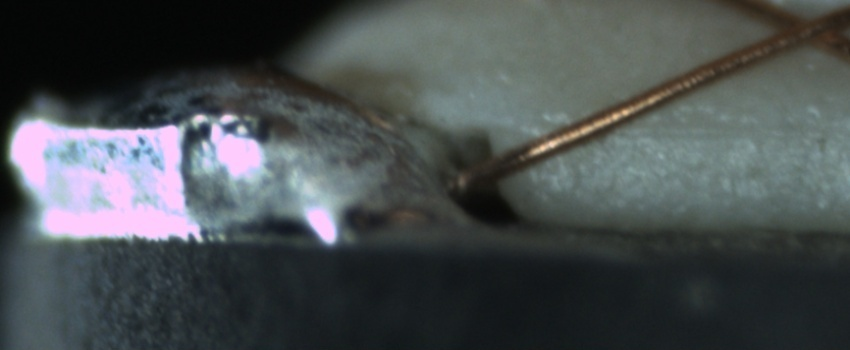CL: (751, 1, 841, 58)
DL: (564, 95, 847, 160)
